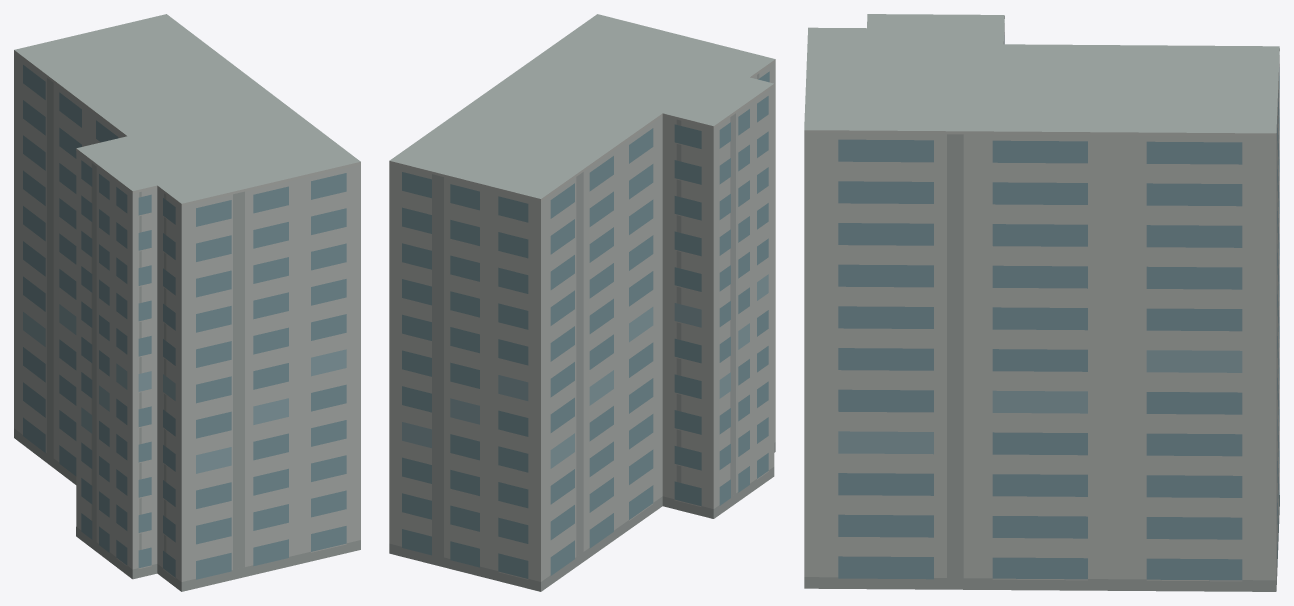
Rendered from residential-8c893e61-f2d1-4845-b535-5153bc48ee80.glb.
The picture shows the model from 3 angles, left to right: view 1: azimuth 30°, elevation 25°; view 2: azimuth 150°, elevation 25°; view 3: azimuth 270°, elevation 25°; orthographic projection. The views are drawn at different scales.
Parts seen in each view (by area): view 1: residential-8c893e61-f2d1-4845-b535-5153bc48ee80.tmp; view 2: residential-8c893e61-f2d1-4845-b535-5153bc48ee80.tmp; view 3: residential-8c893e61-f2d1-4845-b535-5153bc48ee80.tmp.
Boxes of the visible parts, x1,y1,x2,y2 form: residential-8c893e61-f2d1-4845-b535-5153bc48ee80.tmp: (14, 14, 360, 591); residential-8c893e61-f2d1-4845-b535-5153bc48ee80.tmp: (389, 14, 775, 591); residential-8c893e61-f2d1-4845-b535-5153bc48ee80.tmp: (804, 14, 1279, 591).
Size of the model in its own units: 20.68 by 37 by 34.8.
